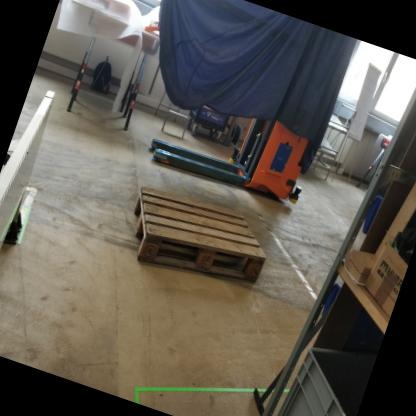BoxFace: (130, 184, 269, 286)
